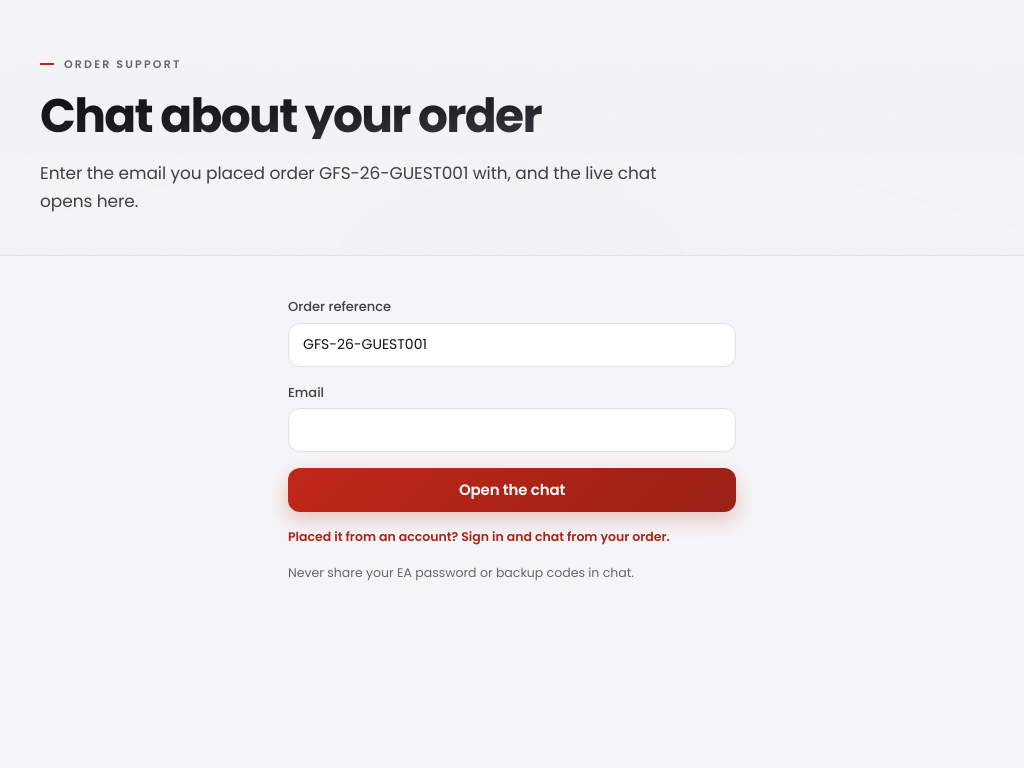
Scenario: the live chat for any order › a reference and email that do not match: said, and nothing opened
The width and height of the screenshot is (1024, 768).
In the field labelled "Email": (512, 430) [288, 408, 736, 452], type "someone@example.test"
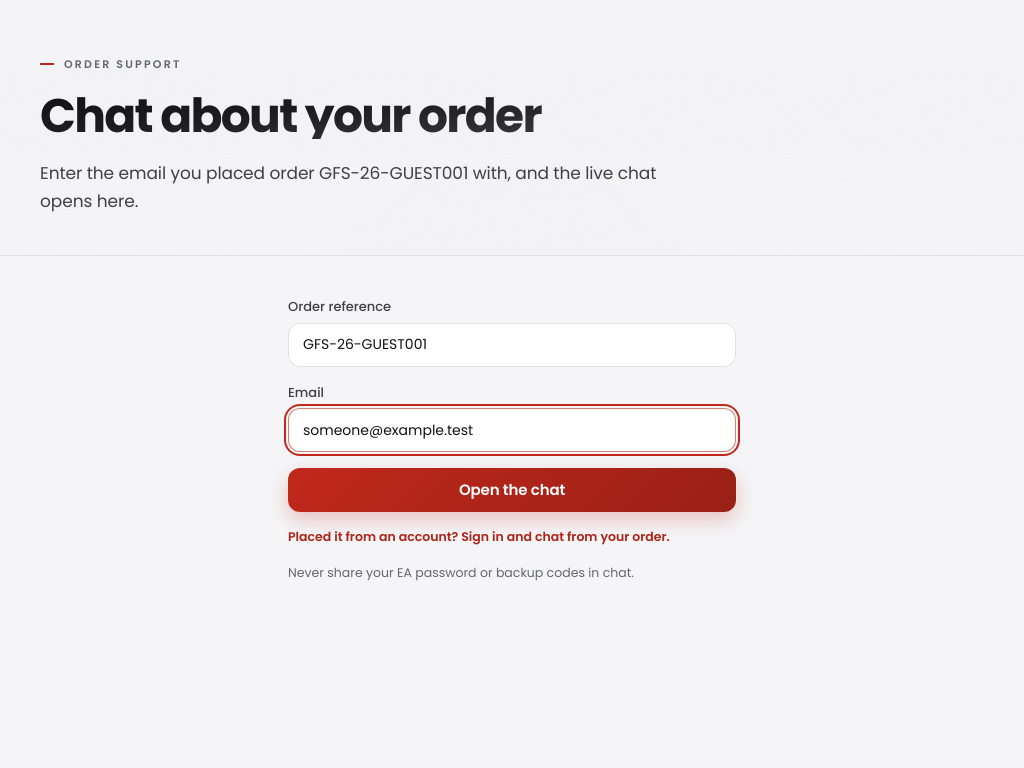
Click the button "Open the chat": (512, 490) [288, 468, 736, 512]
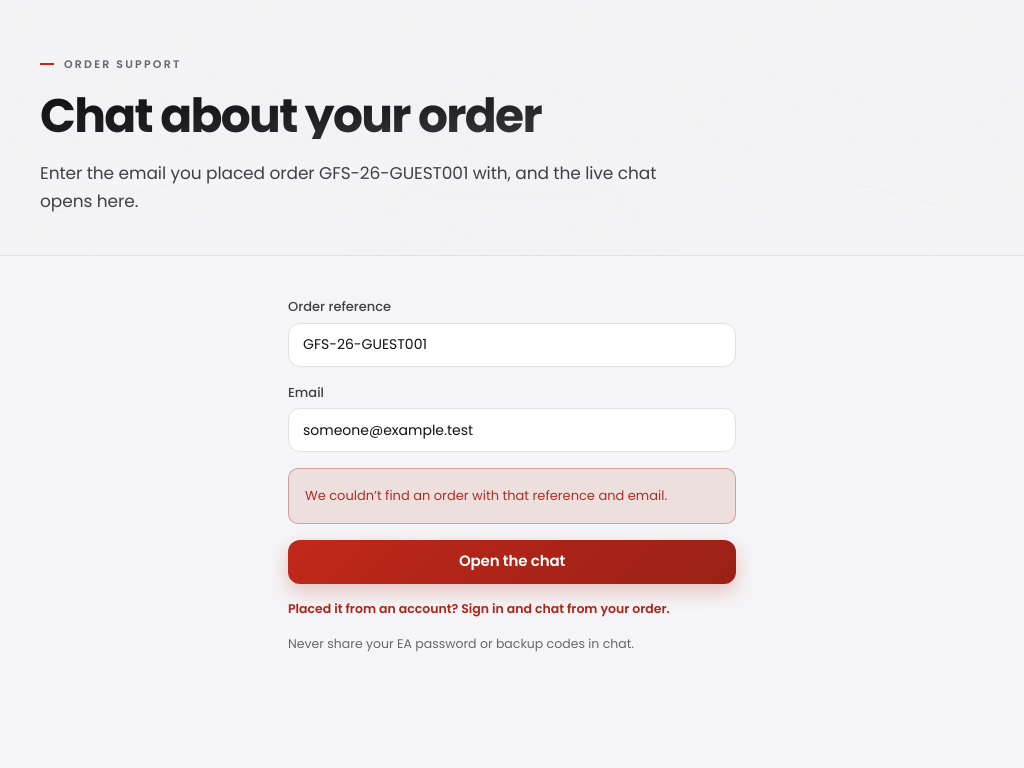
Expected: the text "We couldn’t find an order with that reference and email." is shown, [305, 485, 719, 506]
